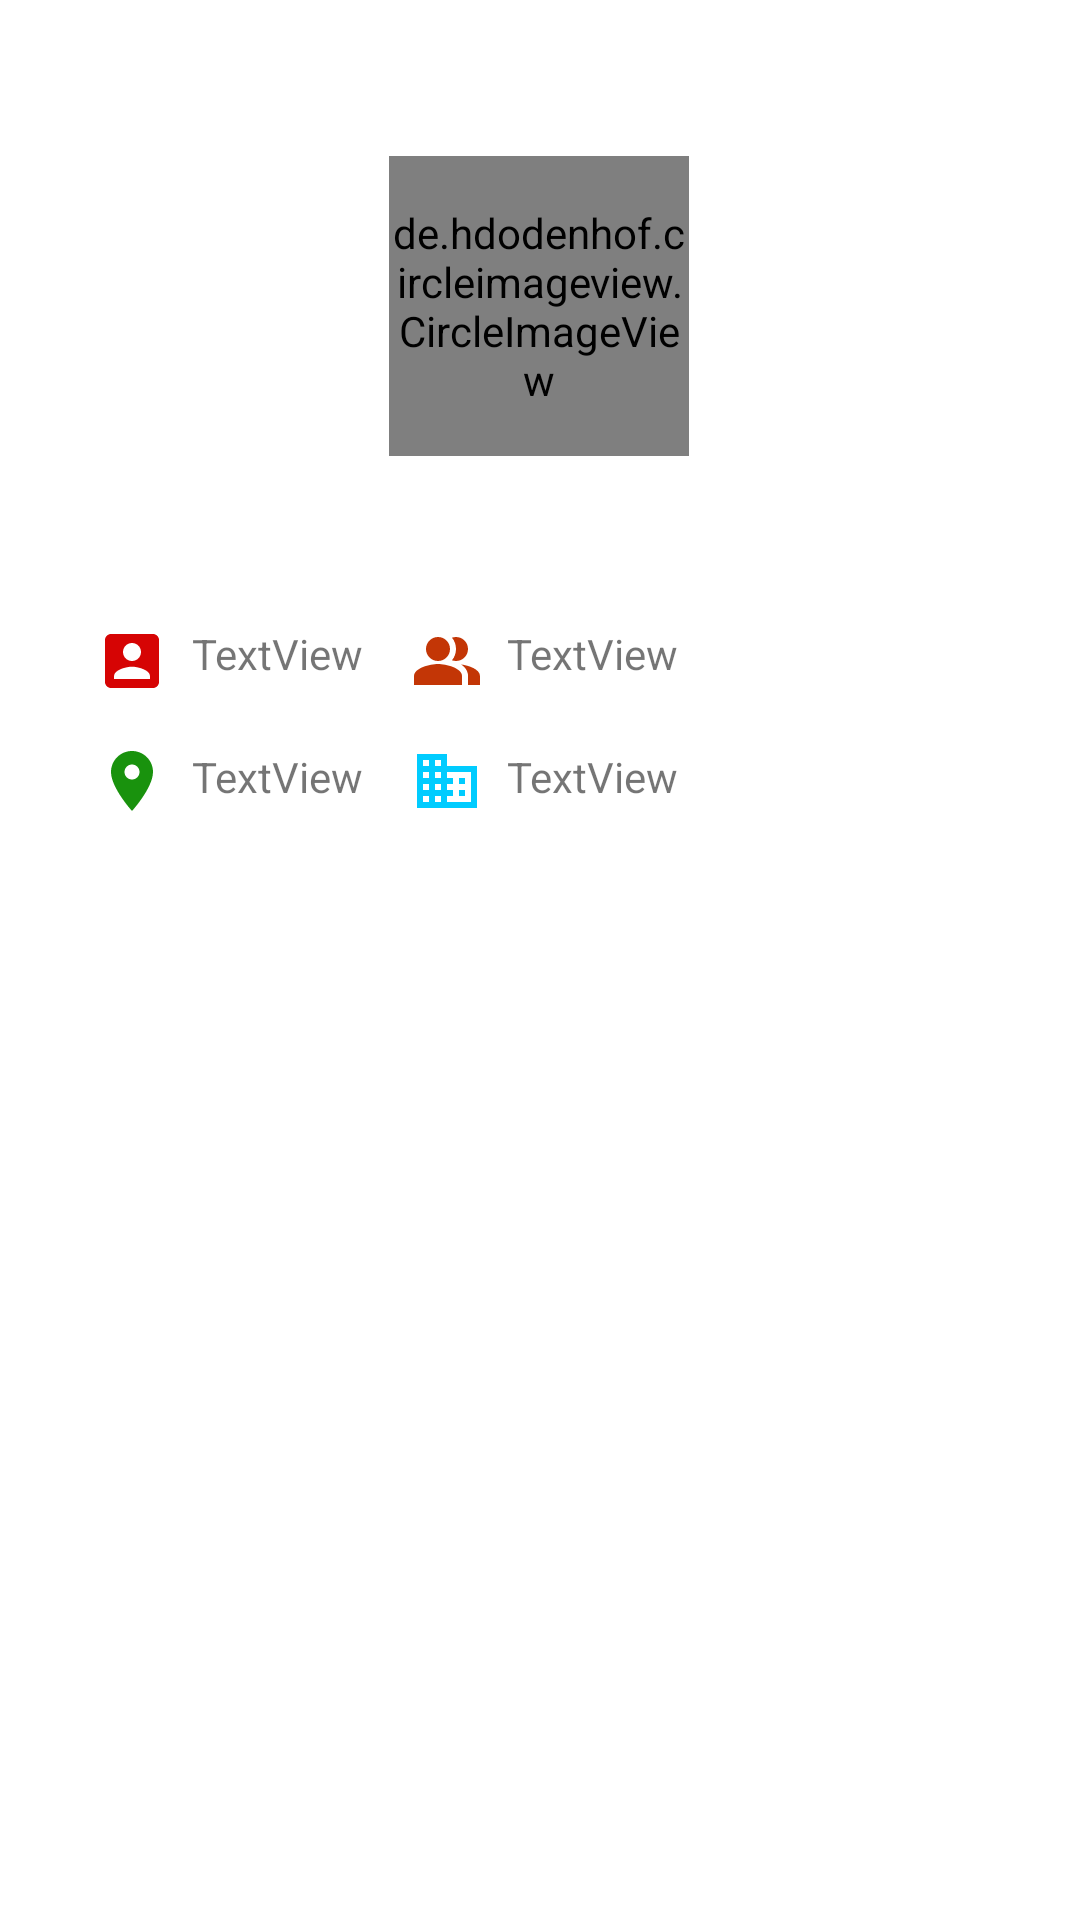

Where to tap for icons on this 1080px×1920px app screen, as (x=x, y=y):
account box: (x=132, y=661)
business: (x=447, y=781)
location on: (x=132, y=781)
people: (x=447, y=661)
